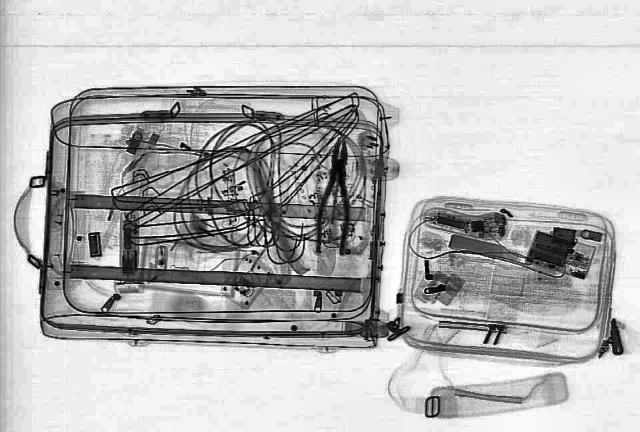Pliers: (312, 137, 358, 255)
